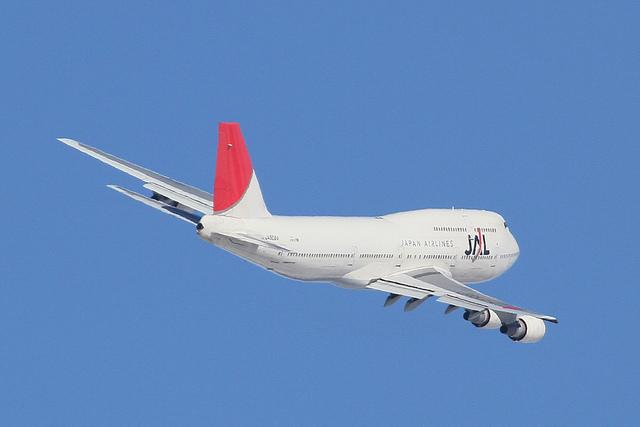airplane: (55, 119, 560, 345)
